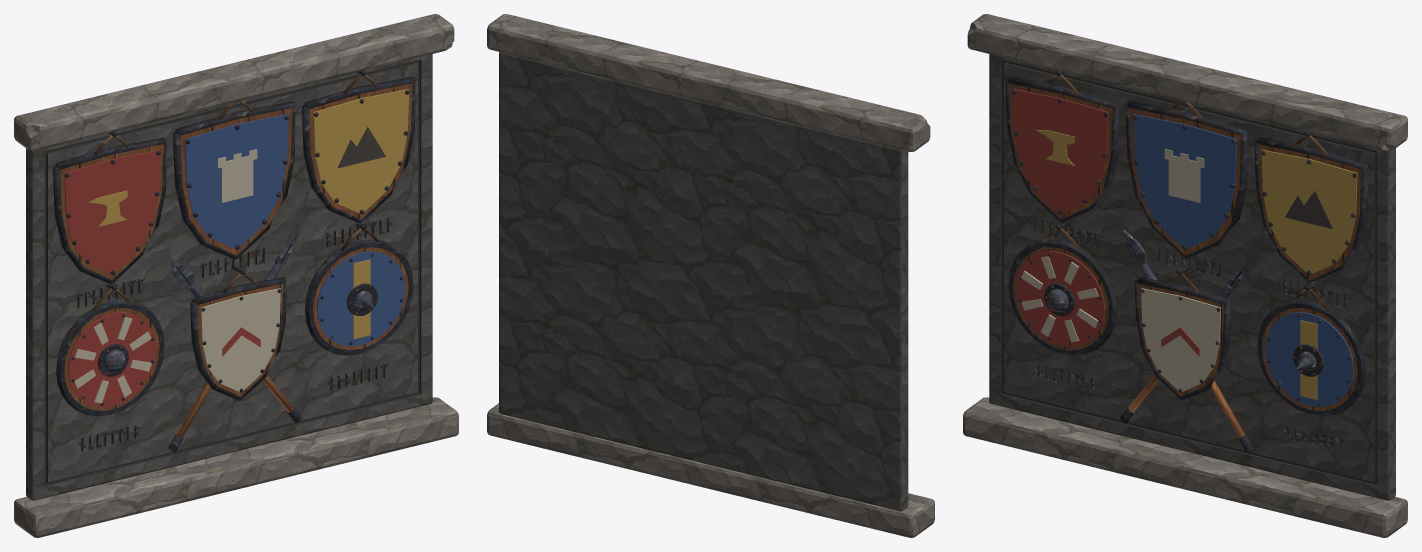
The model's file is hs_shield_wall.glb.
3 views of the same model, side by side, from view 1: azimuth 30°, elevation 25°; view 2: azimuth 150°, elevation 25°; view 3: azimuth 330°, elevation 25° (orthographic).
Visible parts, largest first — view 1: model; view 2: model; view 3: model.
Boxes of the visible parts, x1,y1,x2,y2 form: model: (14,14,458,537); model: (487,14,934,537); model: (963,14,1407,537).
Bounding box in the file's own units: 2.12 × 1.94 × 0.2137.
15 materials, 9 textured.
